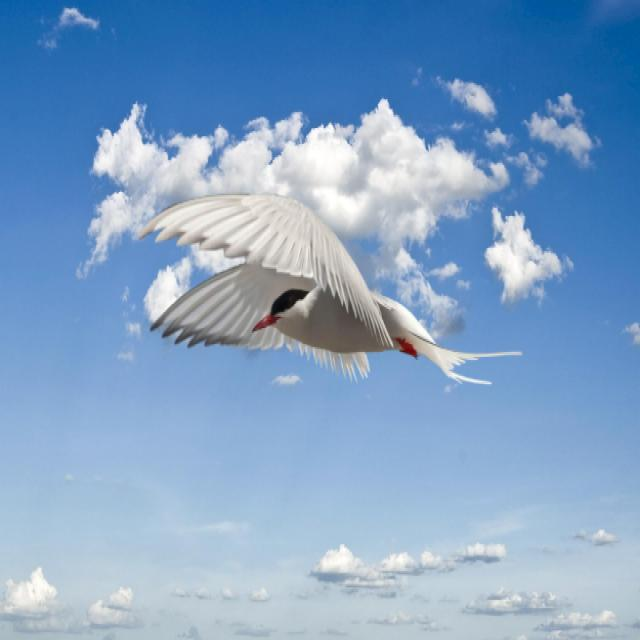birds: (126, 184, 531, 409)
